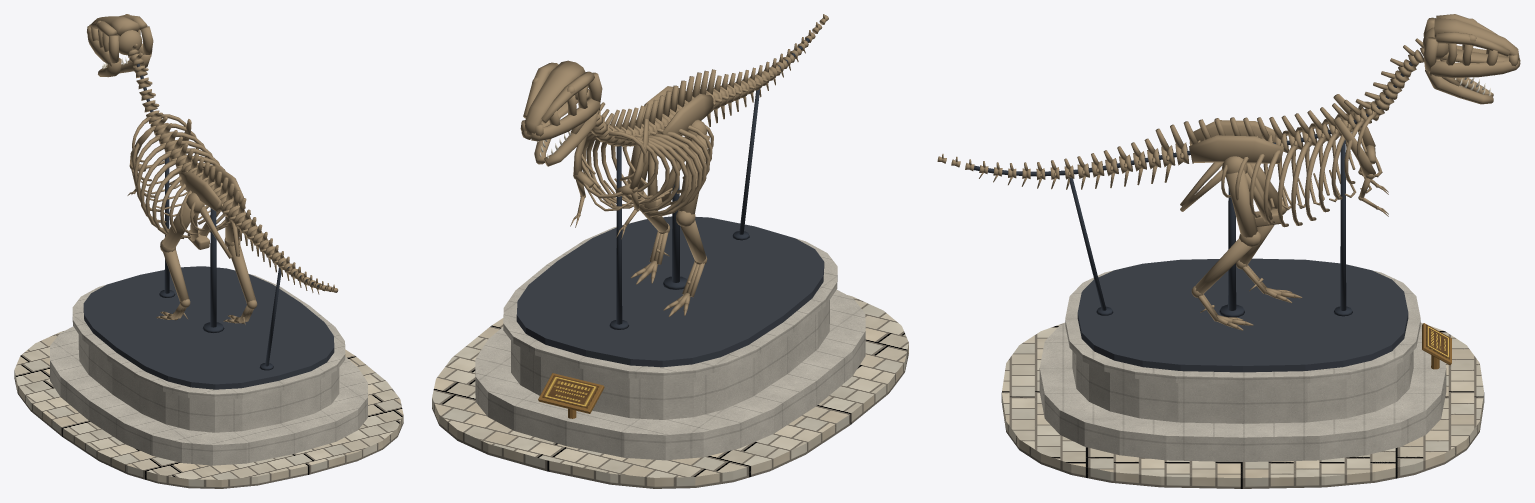
The model's file is landmark_stan_trex.glb.
The picture shows the model from 3 angles, left to right: view 1: azimuth 30°, elevation 25°; view 2: azimuth 150°, elevation 25°; view 3: azimuth 270°, elevation 25°; orthographic projection. The views are drawn at different scales.
Parts seen in each view (by area): view 1: Stan_LimestonePedestal, Stan_BasaltTop, Stan_Skeleton, Stan_PlazaApron, Stan_ArmatureSupports; view 2: Stan_LimestonePedestal, Stan_BasaltTop, Stan_Skeleton, Stan_PlazaApron, Stan_ArmatureSupports, Stan_BronzePlaque, Stan_PlaqueStand; view 3: Stan_LimestonePedestal, Stan_BasaltTop, Stan_Skeleton, Stan_PlazaApron, Stan_ArmatureSupports.
Part boxes in pixels (x1=…): Stan_LimestonePedestal: x1=50, y1=274, x2=367, y2=465; Stan_BasaltTop: x1=83, y1=266, x2=334, y2=389; Stan_Skeleton: x1=87, y1=14, x2=338, y2=325; Stan_PlazaApron: x1=14, y1=331, x2=403, y2=488; Stan_ArmatureSupports: x1=136, y1=64, x2=319, y2=370; Stan_LimestonePedestal: x1=475, y1=219, x2=865, y2=460; Stan_BasaltTop: x1=516, y1=216, x2=824, y2=367; Stan_Skeleton: x1=520, y1=14, x2=828, y2=316; Stan_PlazaApron: x1=432, y1=295, x2=908, y2=488; Stan_ArmatureSupports: x1=609, y1=38, x2=809, y2=329; Stan_BronzePlaque: x1=542, y1=375, x2=599, y2=408; Stan_PlaqueStand: x1=538, y1=373, x2=604, y2=418; Stan_LimestonePedestal: x1=1039, y1=265, x2=1446, y2=461; Stan_BasaltTop: x1=1077, y1=258, x2=1408, y2=372; Stan_Skeleton: x1=937, y1=14, x2=1520, y2=330; Stan_PlazaApron: x1=1001, y1=322, x2=1484, y2=488; Stan_ArmatureSupports: x1=973, y1=62, x2=1412, y2=317.
Bounding box in the file's own units: 7.5 × 7.8 × 10.76.
8 materials, 3 textured.
